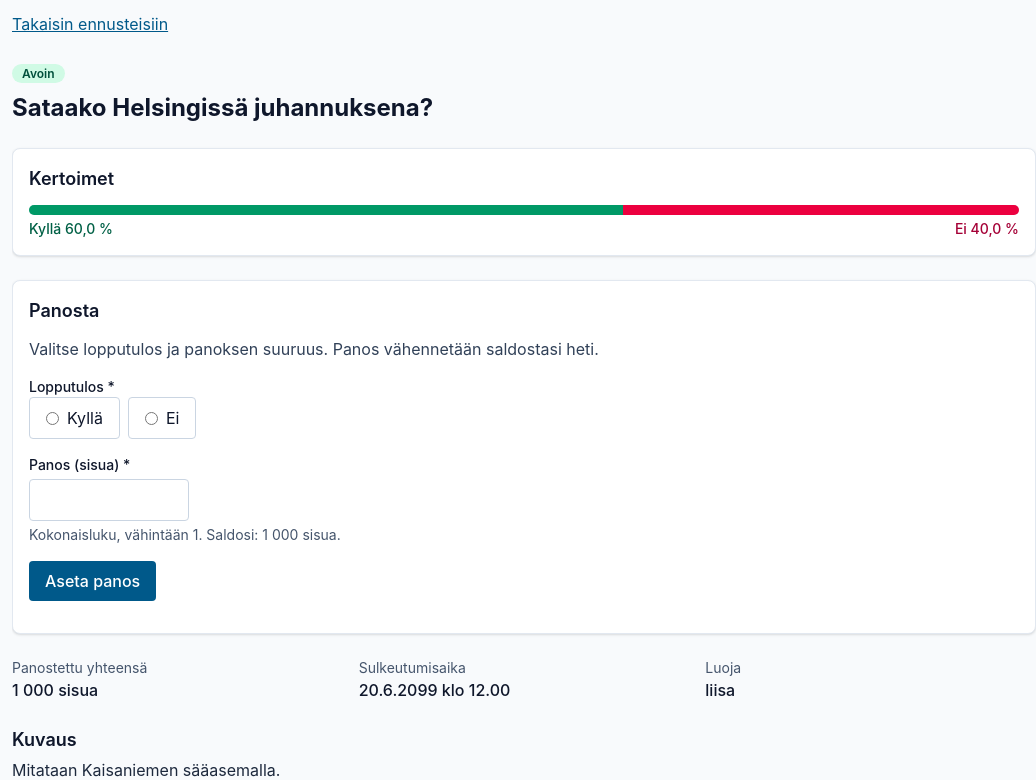
Test: WagerForm on the prediction detail page › places a wager and confirms it with the potential payout
Click the radio button labelled "Ei". click: (151, 418)
box: [145,412,158,424]
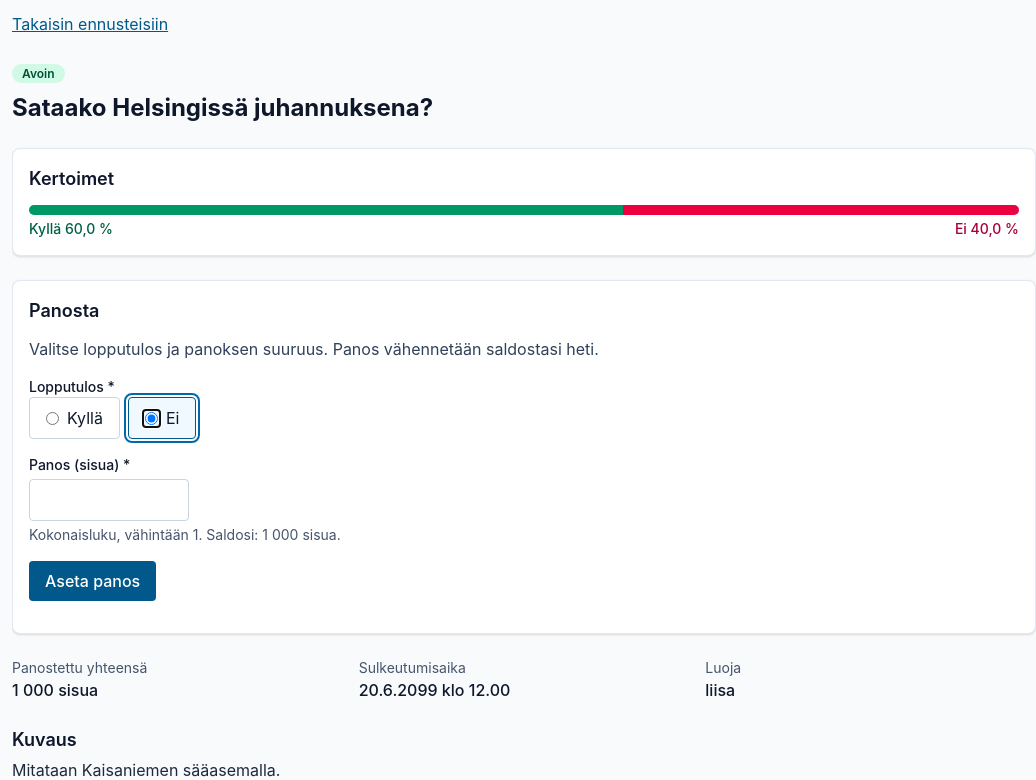
Type "400" into the field labelled "Panos (sisua) *". click: (109, 500)
box: [29,479,189,521]
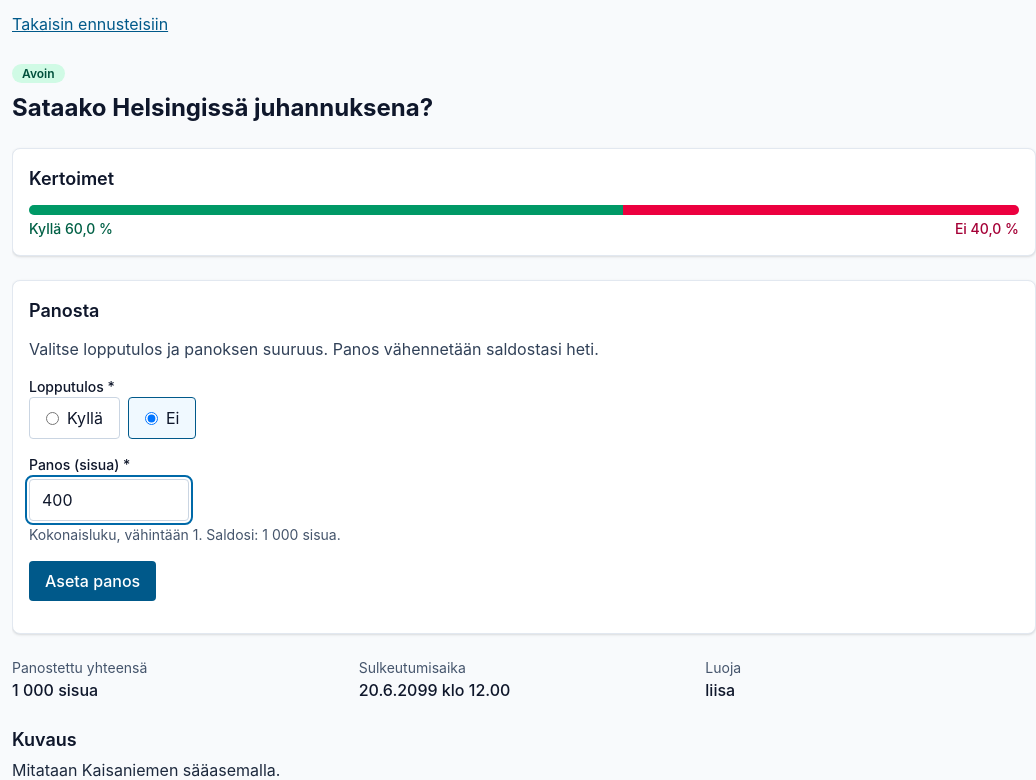
Click the button "Aseta panos". click: (93, 581)
box: [29,561,156,601]
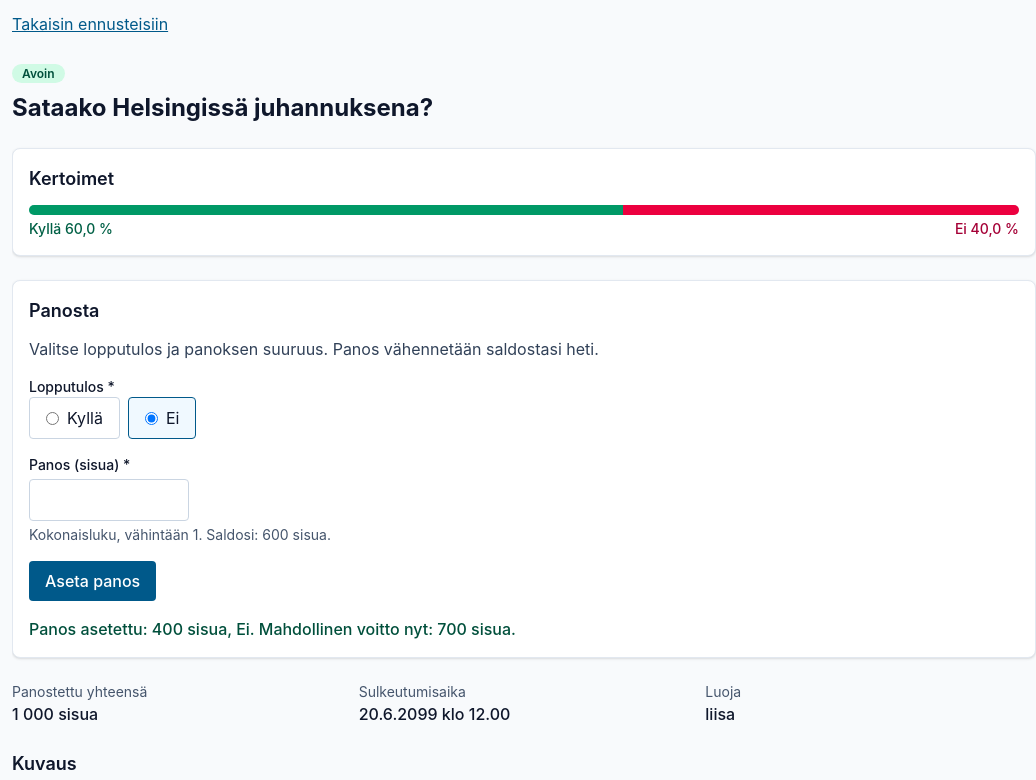
Expected: the message reads "Panos asetettu: 400 sisua, Ei. Mahdollinen voitto nyt: 700 sisua.", [29,619,516,639]
Expected: the text "Kokonaisluku, vähintään 1. Saldosi: 600 sisua." is shown, [29,526,331,543]
